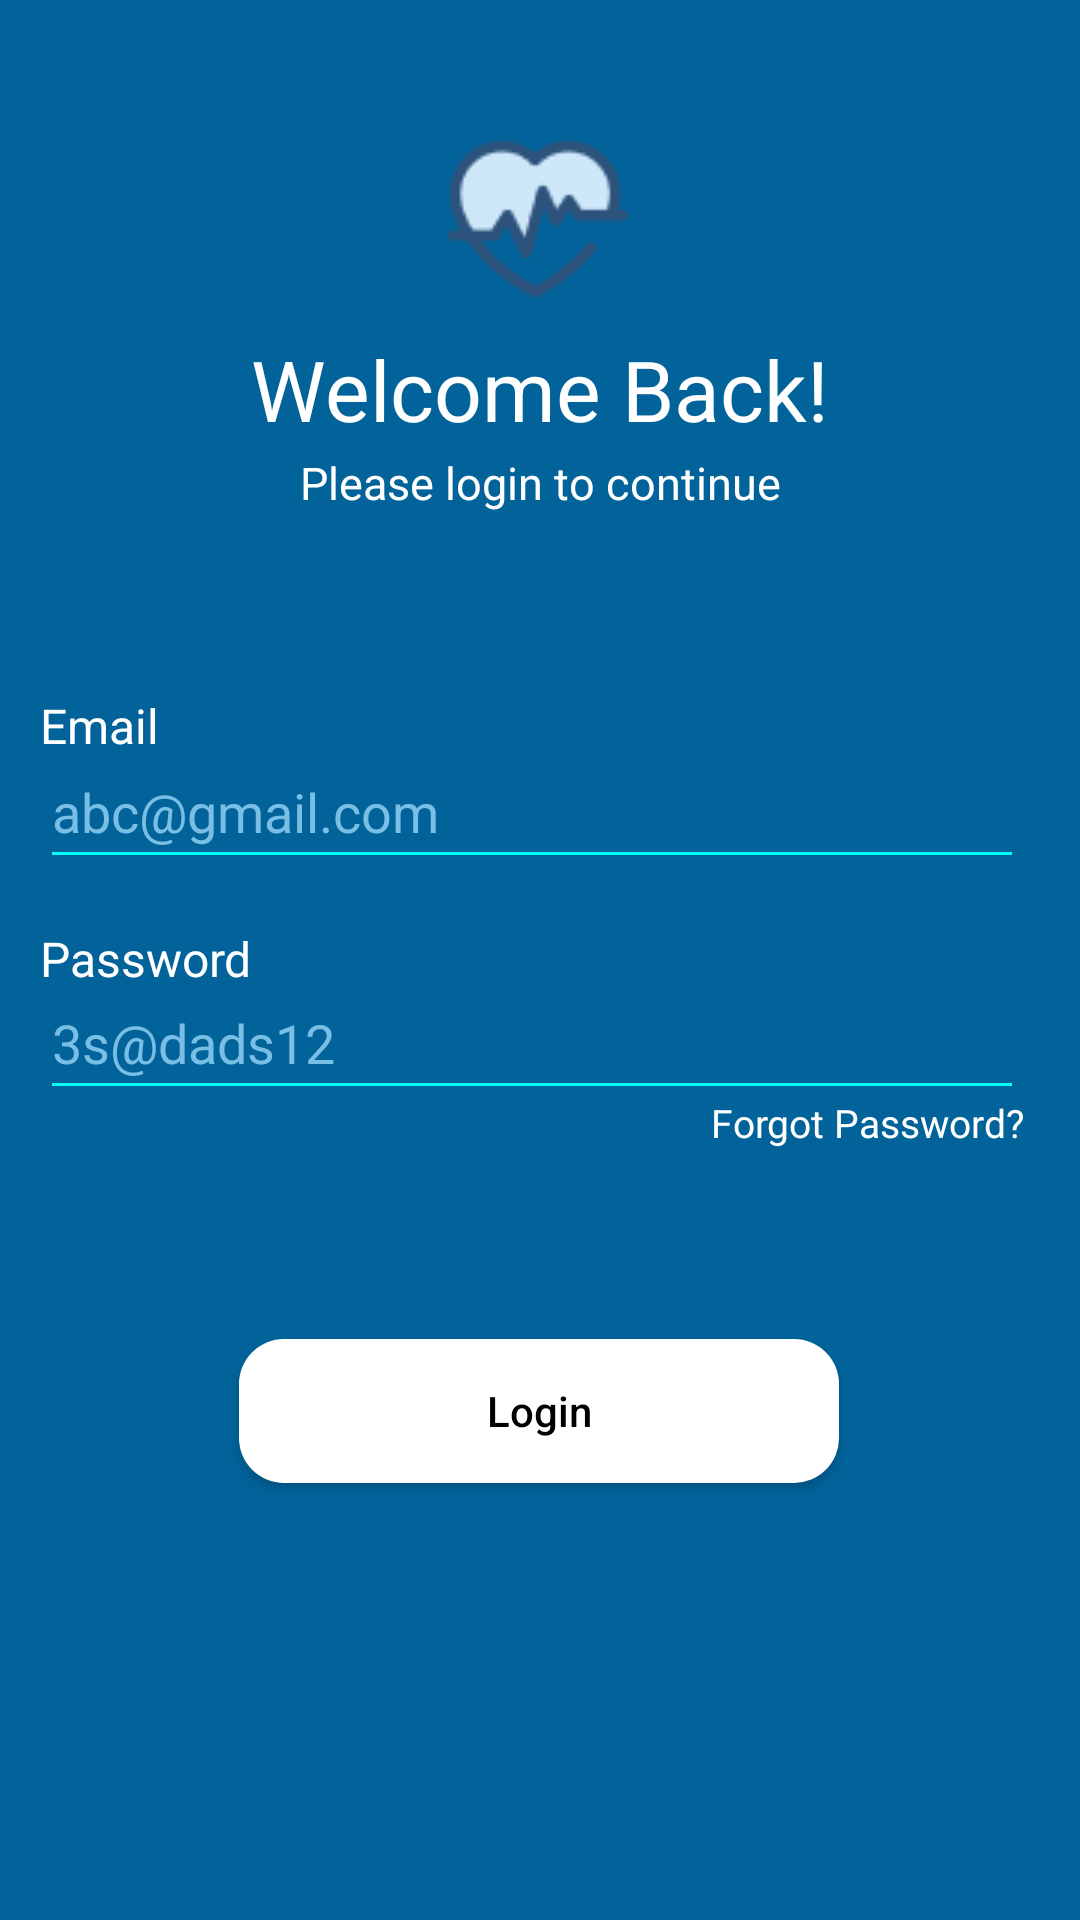

Where icons sit on this 1080w x 1920h app screen, as (x1, y1, x2, y2):
startingactivity pulse: (448, 141, 628, 297)
